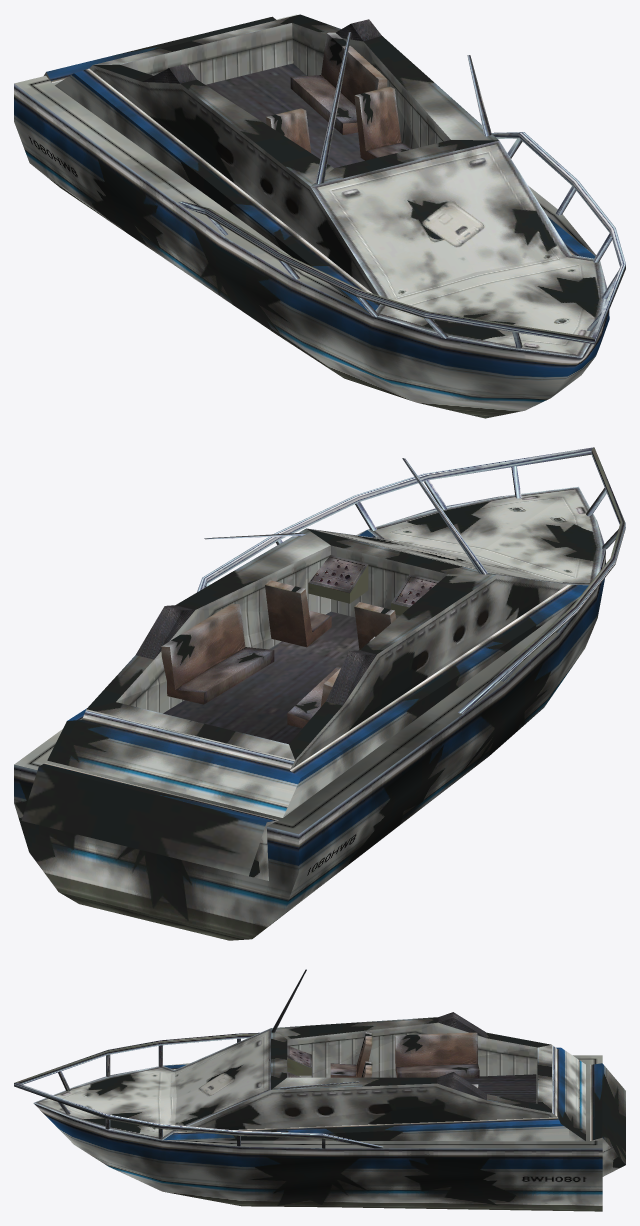
File: DDSB01X.glb
3 renders of one model, top to bottom at view 1: azimuth 30°, elevation 25°; view 2: azimuth 150°, elevation 25°; view 3: azimuth 270°, elevation 25°, orthographic. The views are drawn at different scales.
Visible parts, largest first — view 1: _DDSB01X; view 2: _DDSB01X; view 3: _DDSB01X.
Boxes of the visible parts, x1,y1,x2,y2 form: _DDSB01X: (14, 14, 625, 418); _DDSB01X: (14, 447, 625, 940); _DDSB01X: (14, 969, 625, 1211).
Bounding box in the file's own units: 5.06 × 5.09 × 12.48.
Materials: 1 (1 with a texture image).
